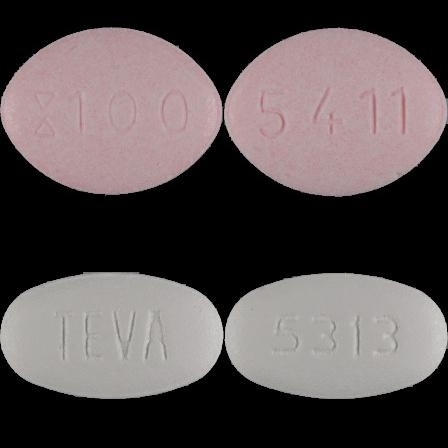55154-6178: (0, 0, 224, 224)
